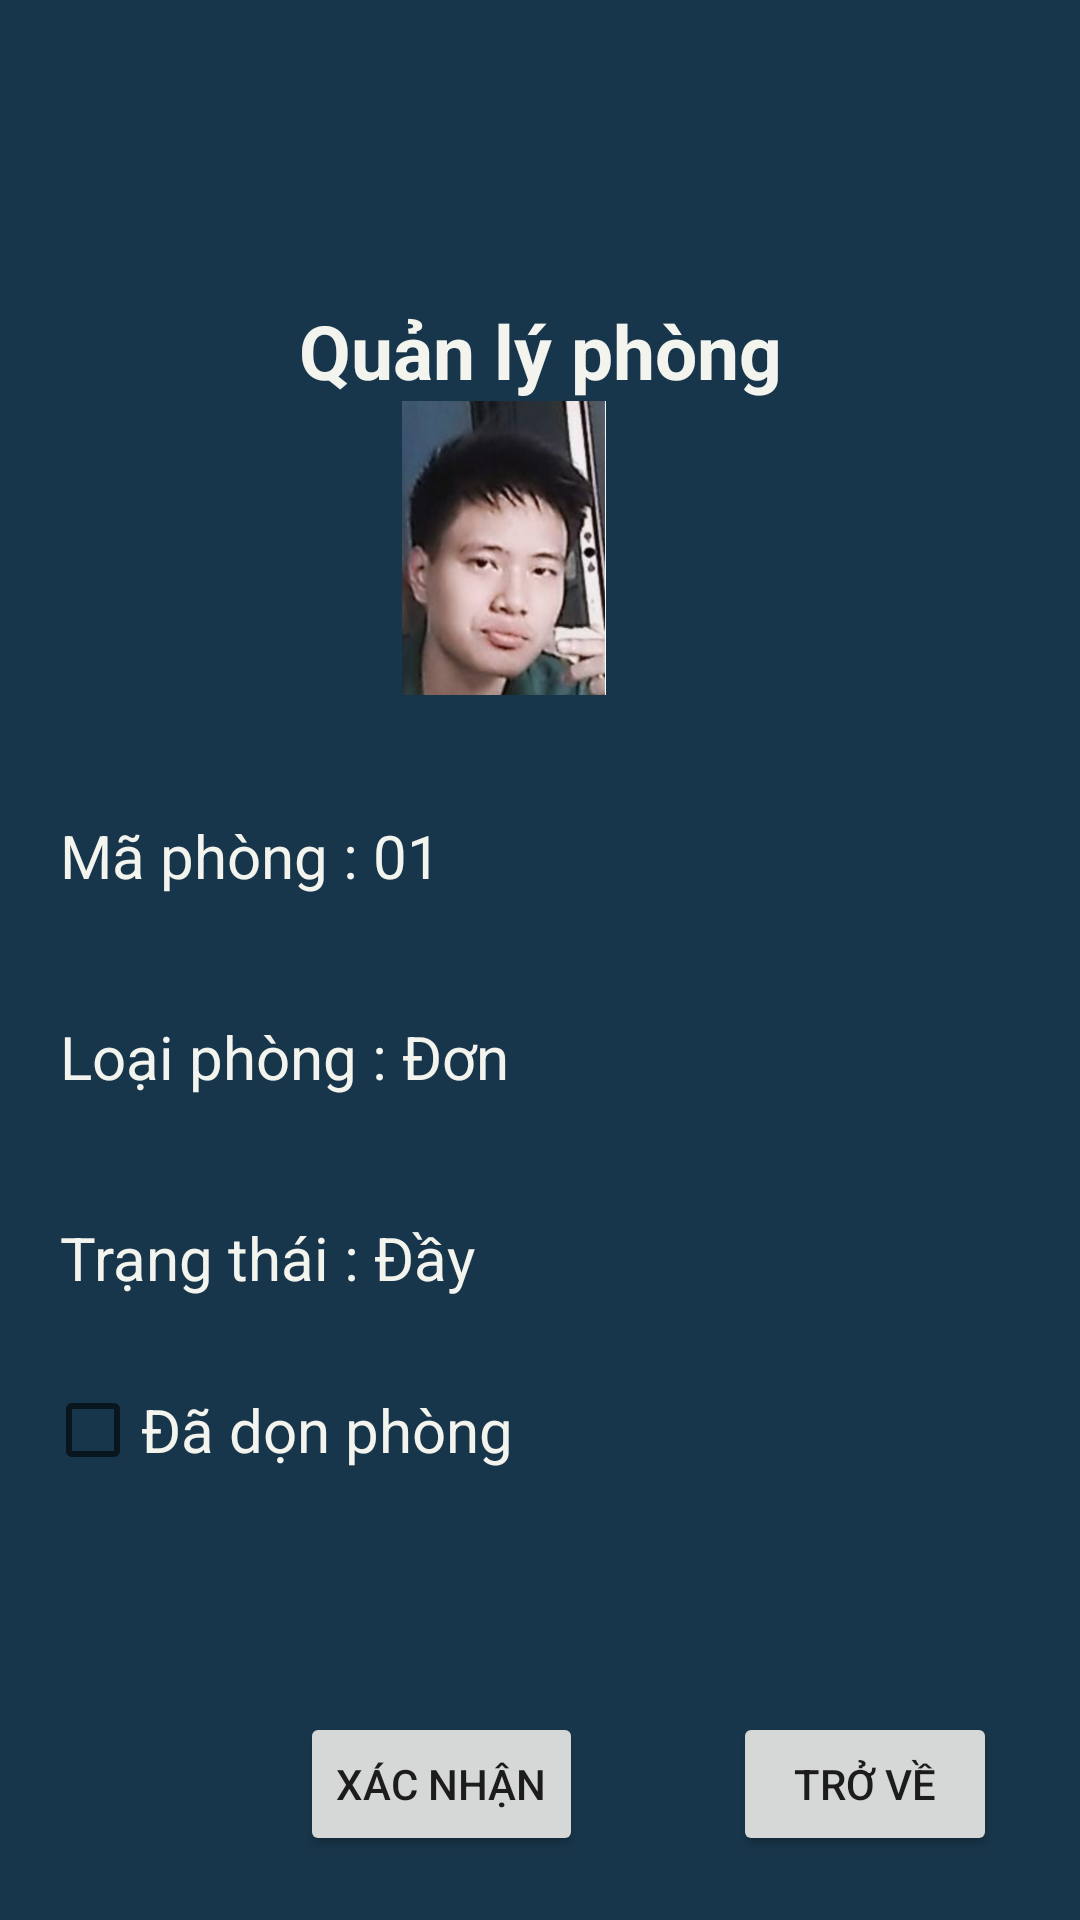

Icon click points for this 1080 x 1920 phone screenshot, format (x,y):
nhanvien: (504,548)
